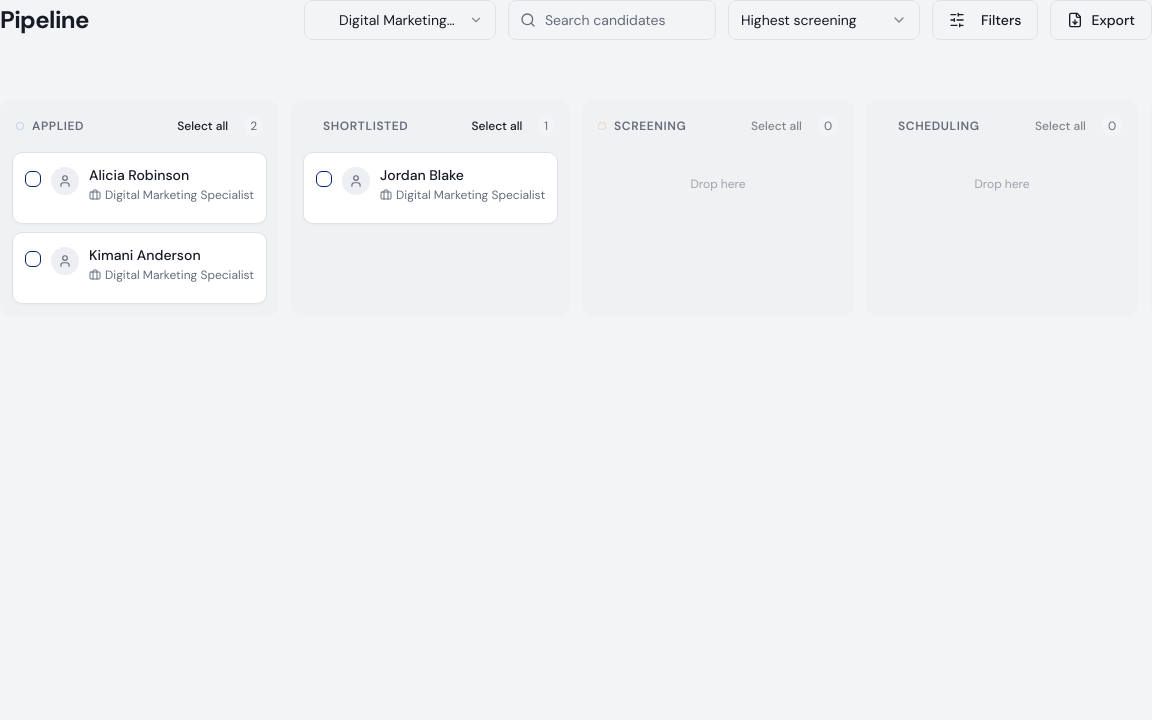
Test case: Pipeline batch stage movement › confirms and moves selected applications with one batch update
This screenshot has width=1152, height=720.
Click the checkbox named "Select Alicia Robinson".
click(33, 179)  # box [25,171,41,187]
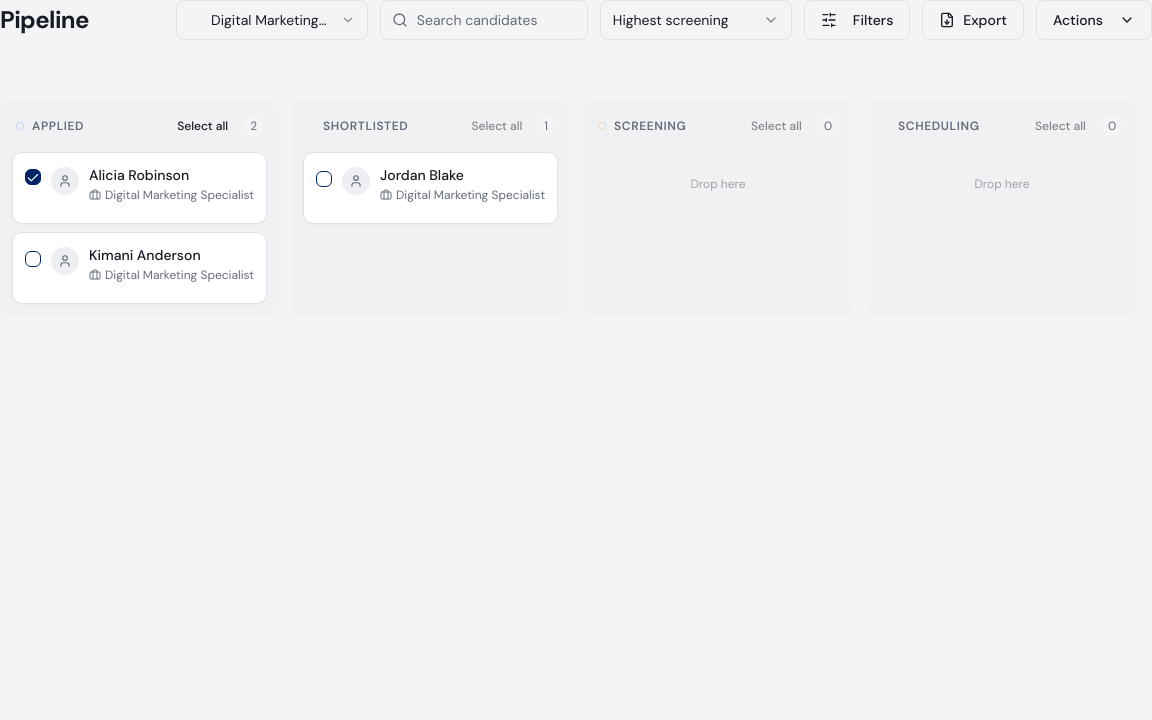
Click the checkbox named "Select Kimani Anderson".
click(33, 259)  # box [25,251,41,267]
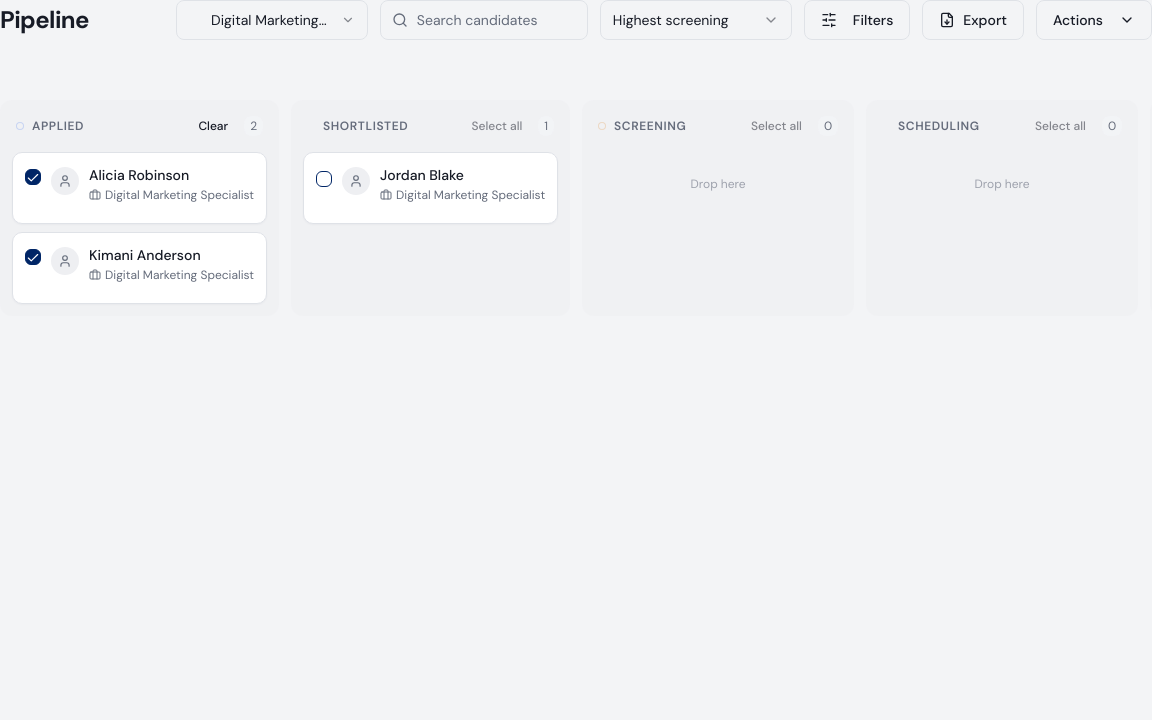
Press ArrowDown in the button "Actions", box [1036,0,1151,40]
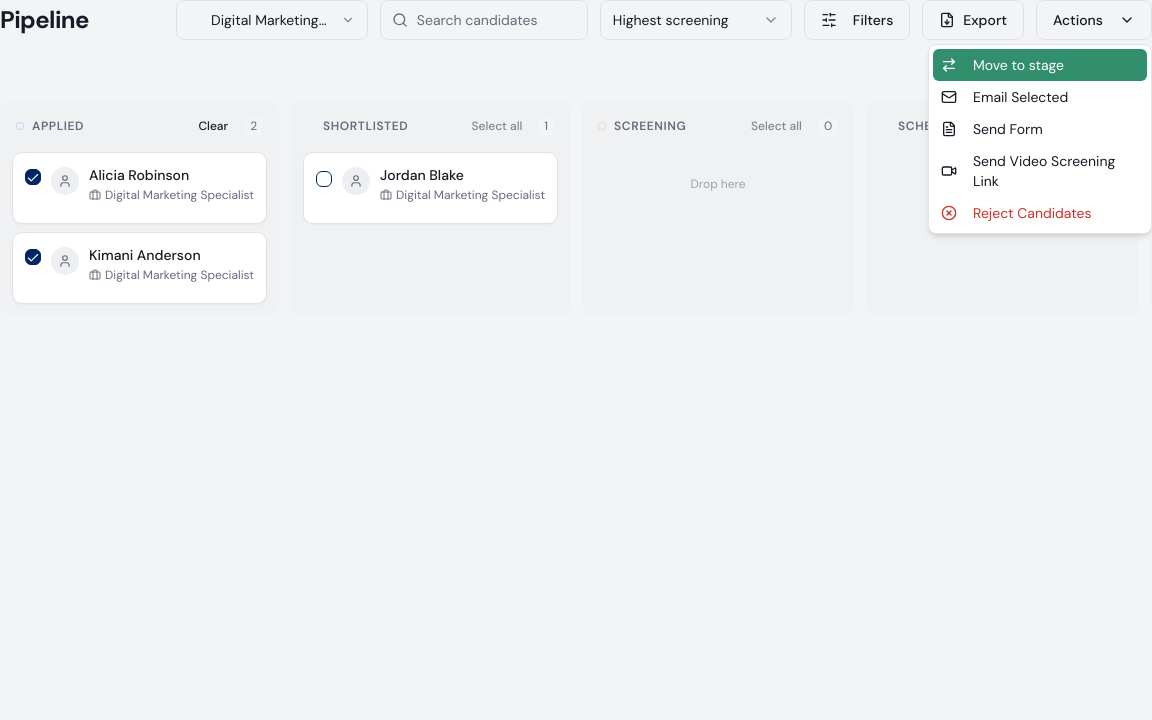
Press ArrowRight in the menu item "Move to stage", box [933,49,1147,81]
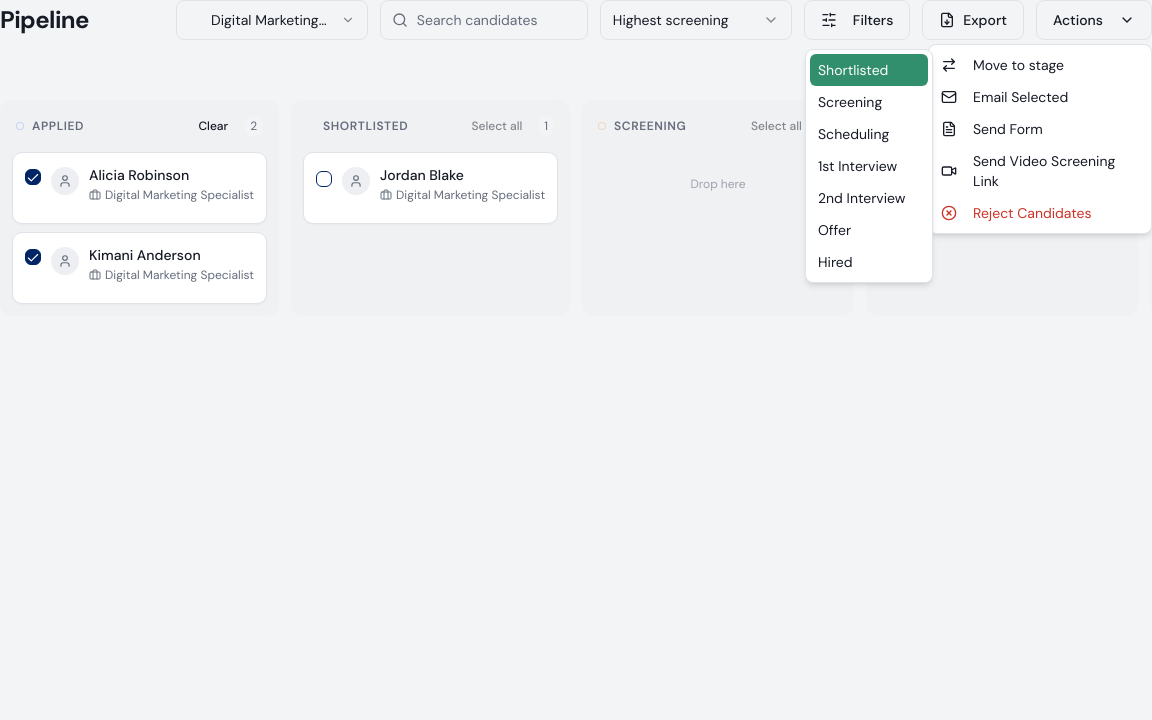
Click the menu item "Shortlisted".
click(869, 70)  # box [810,54,928,86]
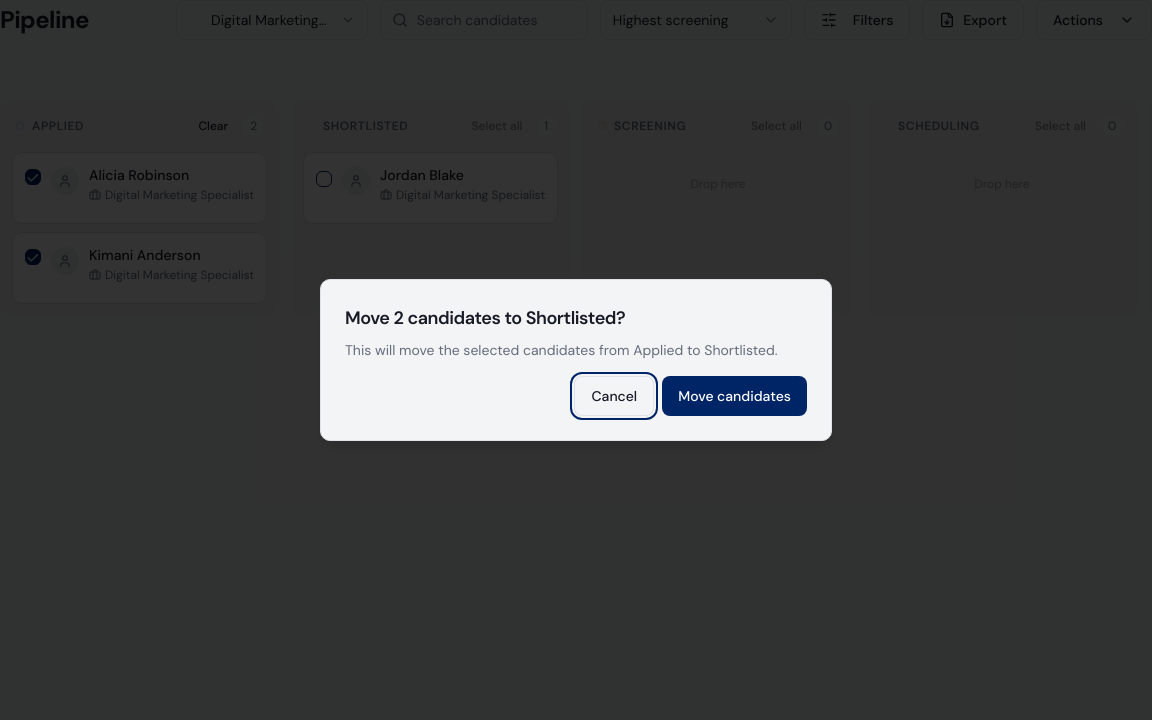
Check: the heading "Move 2 candidates to Shortlisted?" is shown, box [345,306,625,330]
Check: the text "This will move the selected candidates from Applied to Shortlisted." is shown, box [345,340,807,360]
Click the button "Move candidates".
click(735, 396)  # box [662,376,807,416]
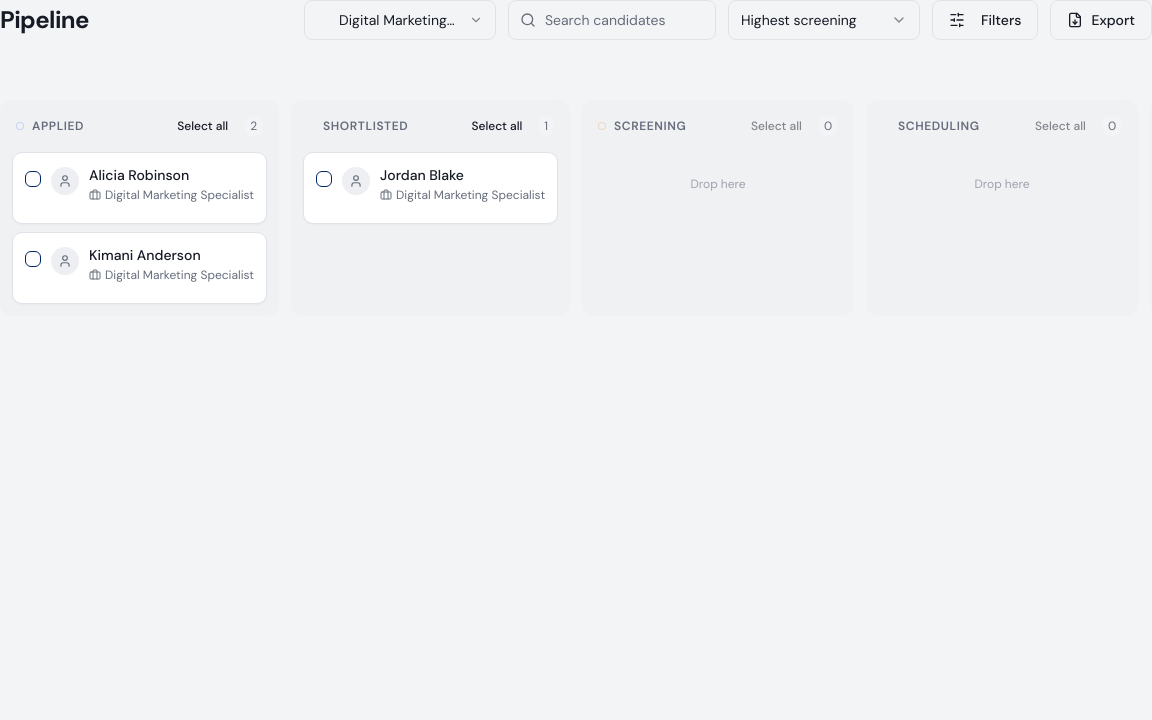
Check: the button "Actions" is gone
Check: the heading "Move 2 candidates to Shortlisted?" is gone
